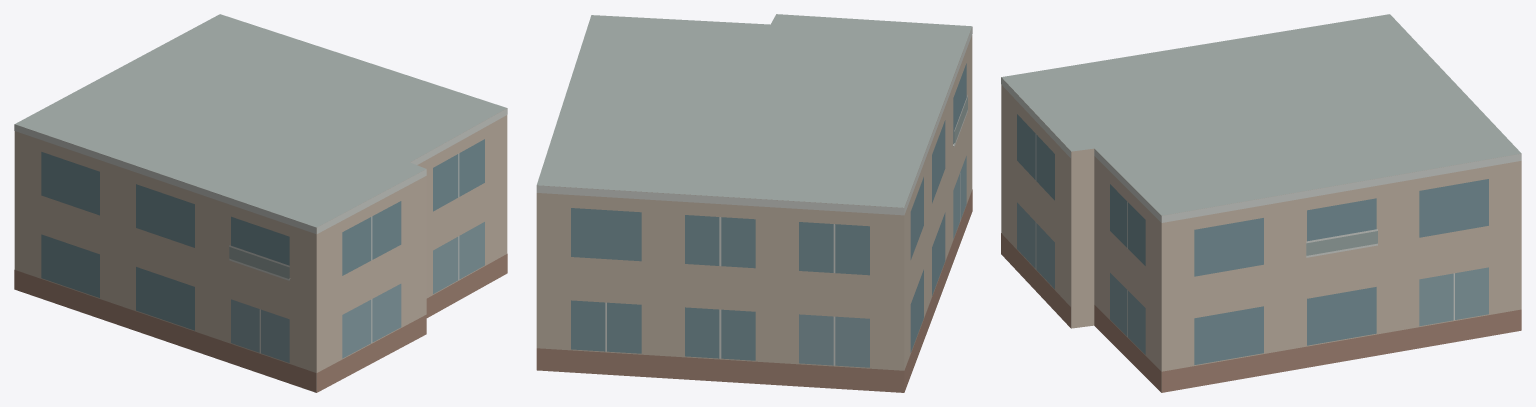
The model's file is survey-upis-32846657.glb.
3 renders of one model, left to right at view 1: azimuth 30°, elevation 25°; view 2: azimuth 150°, elevation 25°; view 3: azimuth 270°, elevation 25°, orthographic. The views are drawn at different scales.
Visible parts, largest first — view 1: survey-upis-32846657.tmp; view 2: survey-upis-32846657.tmp; view 3: survey-upis-32846657.tmp.
Boxes of the visible parts, x1=… form: survey-upis-32846657.tmp: x1=14, y1=14, x2=507, y2=392; survey-upis-32846657.tmp: x1=536, y1=14, x2=972, y2=392; survey-upis-32846657.tmp: x1=1001, y1=14, x2=1521, y2=392.
Size of the model in its own units: 13.7 by 5.6 by 14.93.
